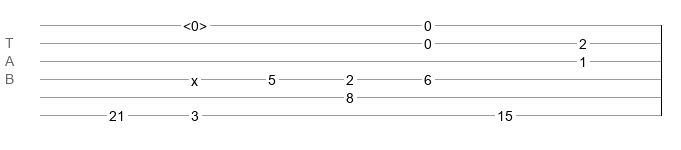0: (424, 36, 432, 46), (424, 18, 432, 28)
1: (579, 54, 587, 64)
15: (497, 108, 513, 118)
2: (346, 72, 354, 82), (579, 36, 587, 46)
21: (109, 108, 125, 118)
3: (191, 108, 199, 118)
5: (268, 72, 276, 82)
6: (424, 72, 432, 82)
8: (346, 90, 354, 100)
harmonic: (183, 18, 207, 28)
x: (191, 73, 198, 81)
